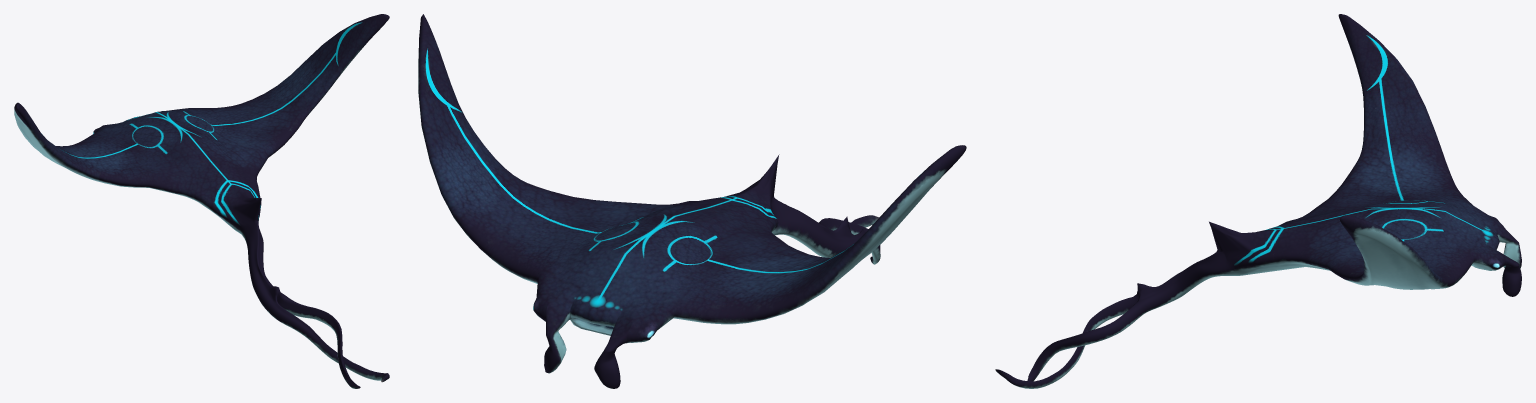
File: manta_ray.glb
3 renders of one model, left to right at view 1: azimuth 30°, elevation 25°; view 2: azimuth 150°, elevation 25°; view 3: azimuth 270°, elevation 25°, orthographic. The views are drawn at different scales.
Visible parts, largest first — view 1: pSphere10; view 2: pSphere10; view 3: pSphere10.
Boxes of the visible parts, x1,y1,x2,y2 form: pSphere10: (14, 14, 389, 388); pSphere10: (418, 14, 966, 388); pSphere10: (995, 14, 1521, 388).
Size of the model in its own units: 1.83 by 1.09 by 2.
1 material, 1 textured.
